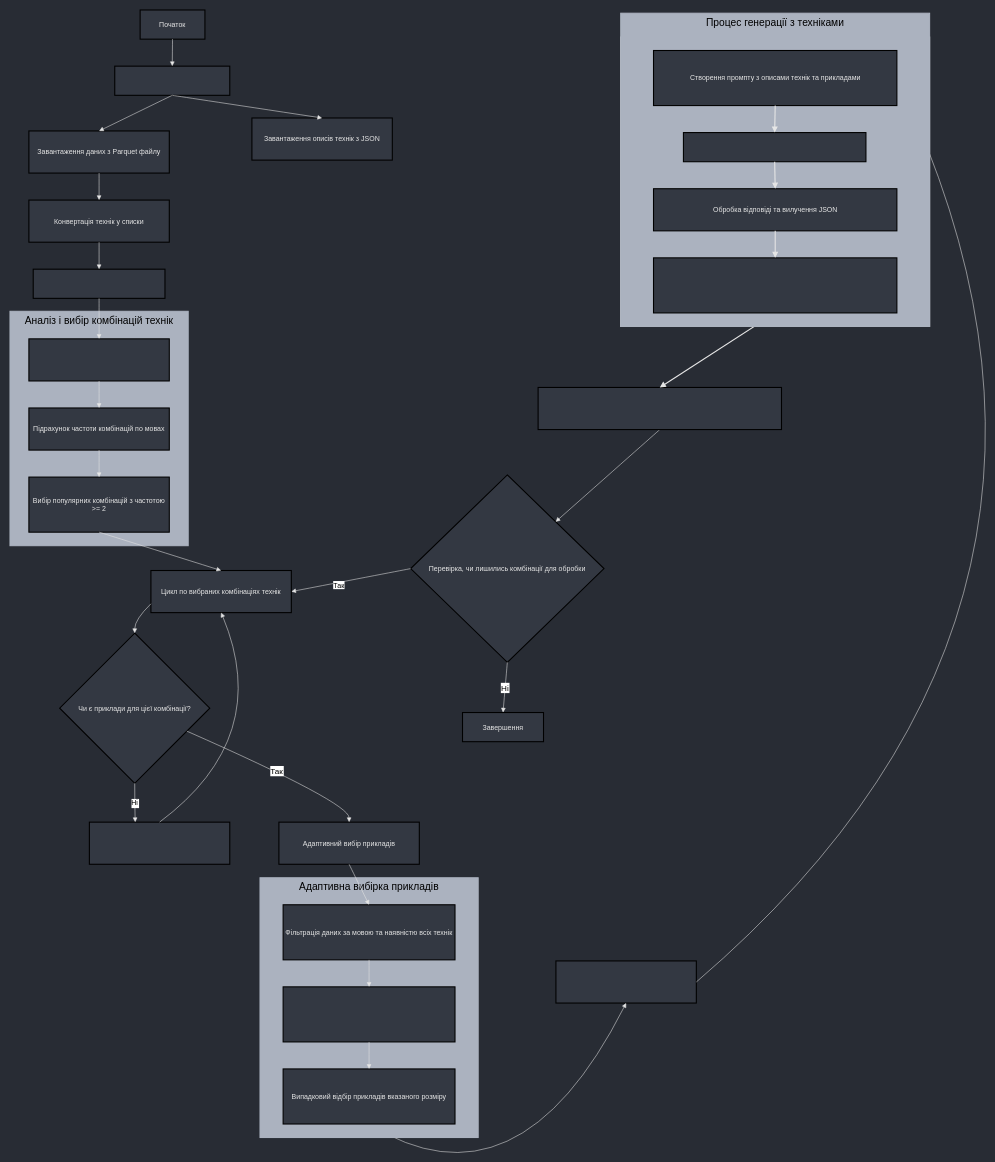
This 995x1162 diagram has some shape labels left out. The shapes that lost their labels are listed below. From the top down, each one's centre as x and y in pixels, then its label:
At (172,80): "Завантаження даних".
At (774,147): "Виклик Gemini API".
At (98,283): "Аналіз комбінацій технік".
At (775,285): "Створення запису з унікальним ID, згенерованим текстом".
At (99,359): "Пошук пар технік в існуючих даних".
At (659,408): "Додавання до нового набору даних".
At (159,843): "Пропустити комбінацію і перейти до наступної".
At (626,981): "Генерація нових прикладів".
At (368,1014): "Вибір розміру вибірки: min(3, кількість наявних прикладів)".
